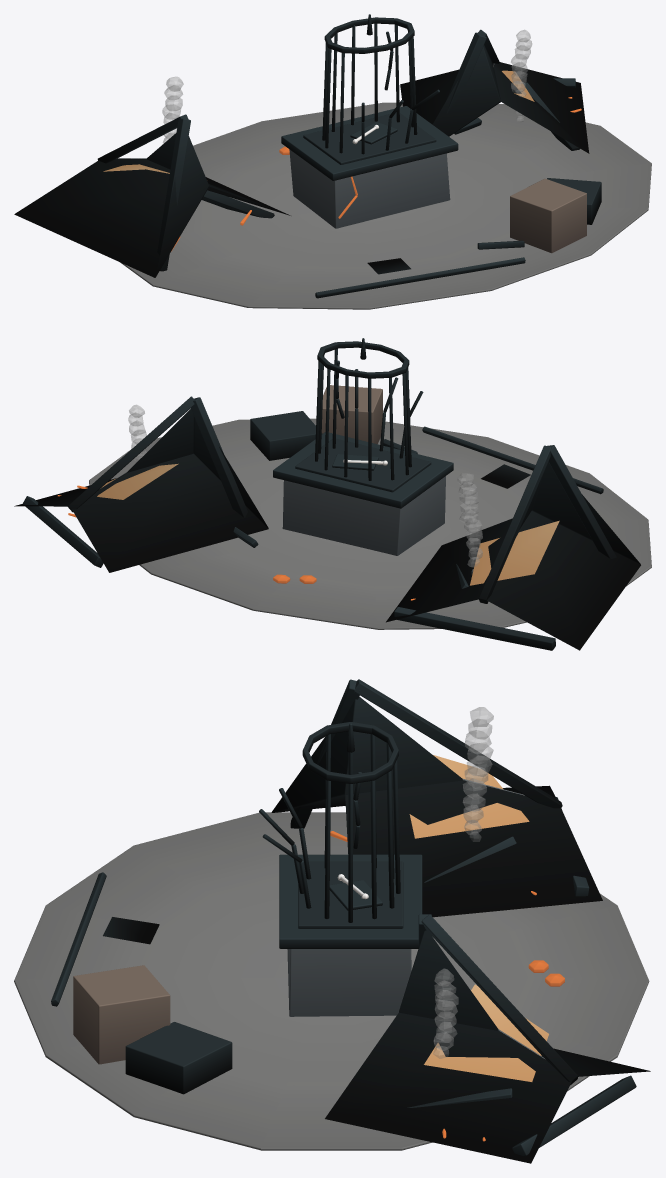
Rendered from heretic_ruin.glb.
3 renders of one model, top to bottom at view 1: azimuth 30°, elevation 25°; view 2: azimuth 150°, elevation 25°; view 3: azimuth 270°, elevation 25°, orthographic. The views are drawn at different scales.
Parts seen in each view (by area): view 1: heretic_ruin; view 2: heretic_ruin; view 3: heretic_ruin.
Boxes of the visible parts, box(x1,y1,x2,y2) form: heretic_ruin: box(14, 14, 651, 309); heretic_ruin: box(14, 338, 651, 650); heretic_ruin: box(14, 679, 650, 1163).
Bounding box in the file's own units: 9.36 × 3.07 × 6.68.
Materials: 3 (3 with a texture image).
